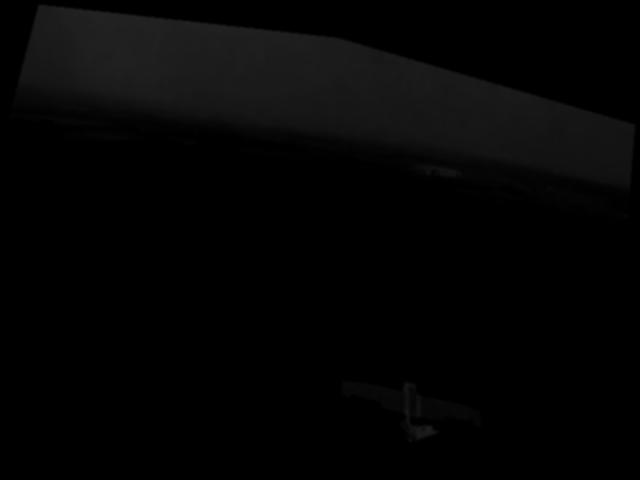hedef: (322, 325, 522, 478), (410, 317, 480, 365), (433, 297, 475, 329)
